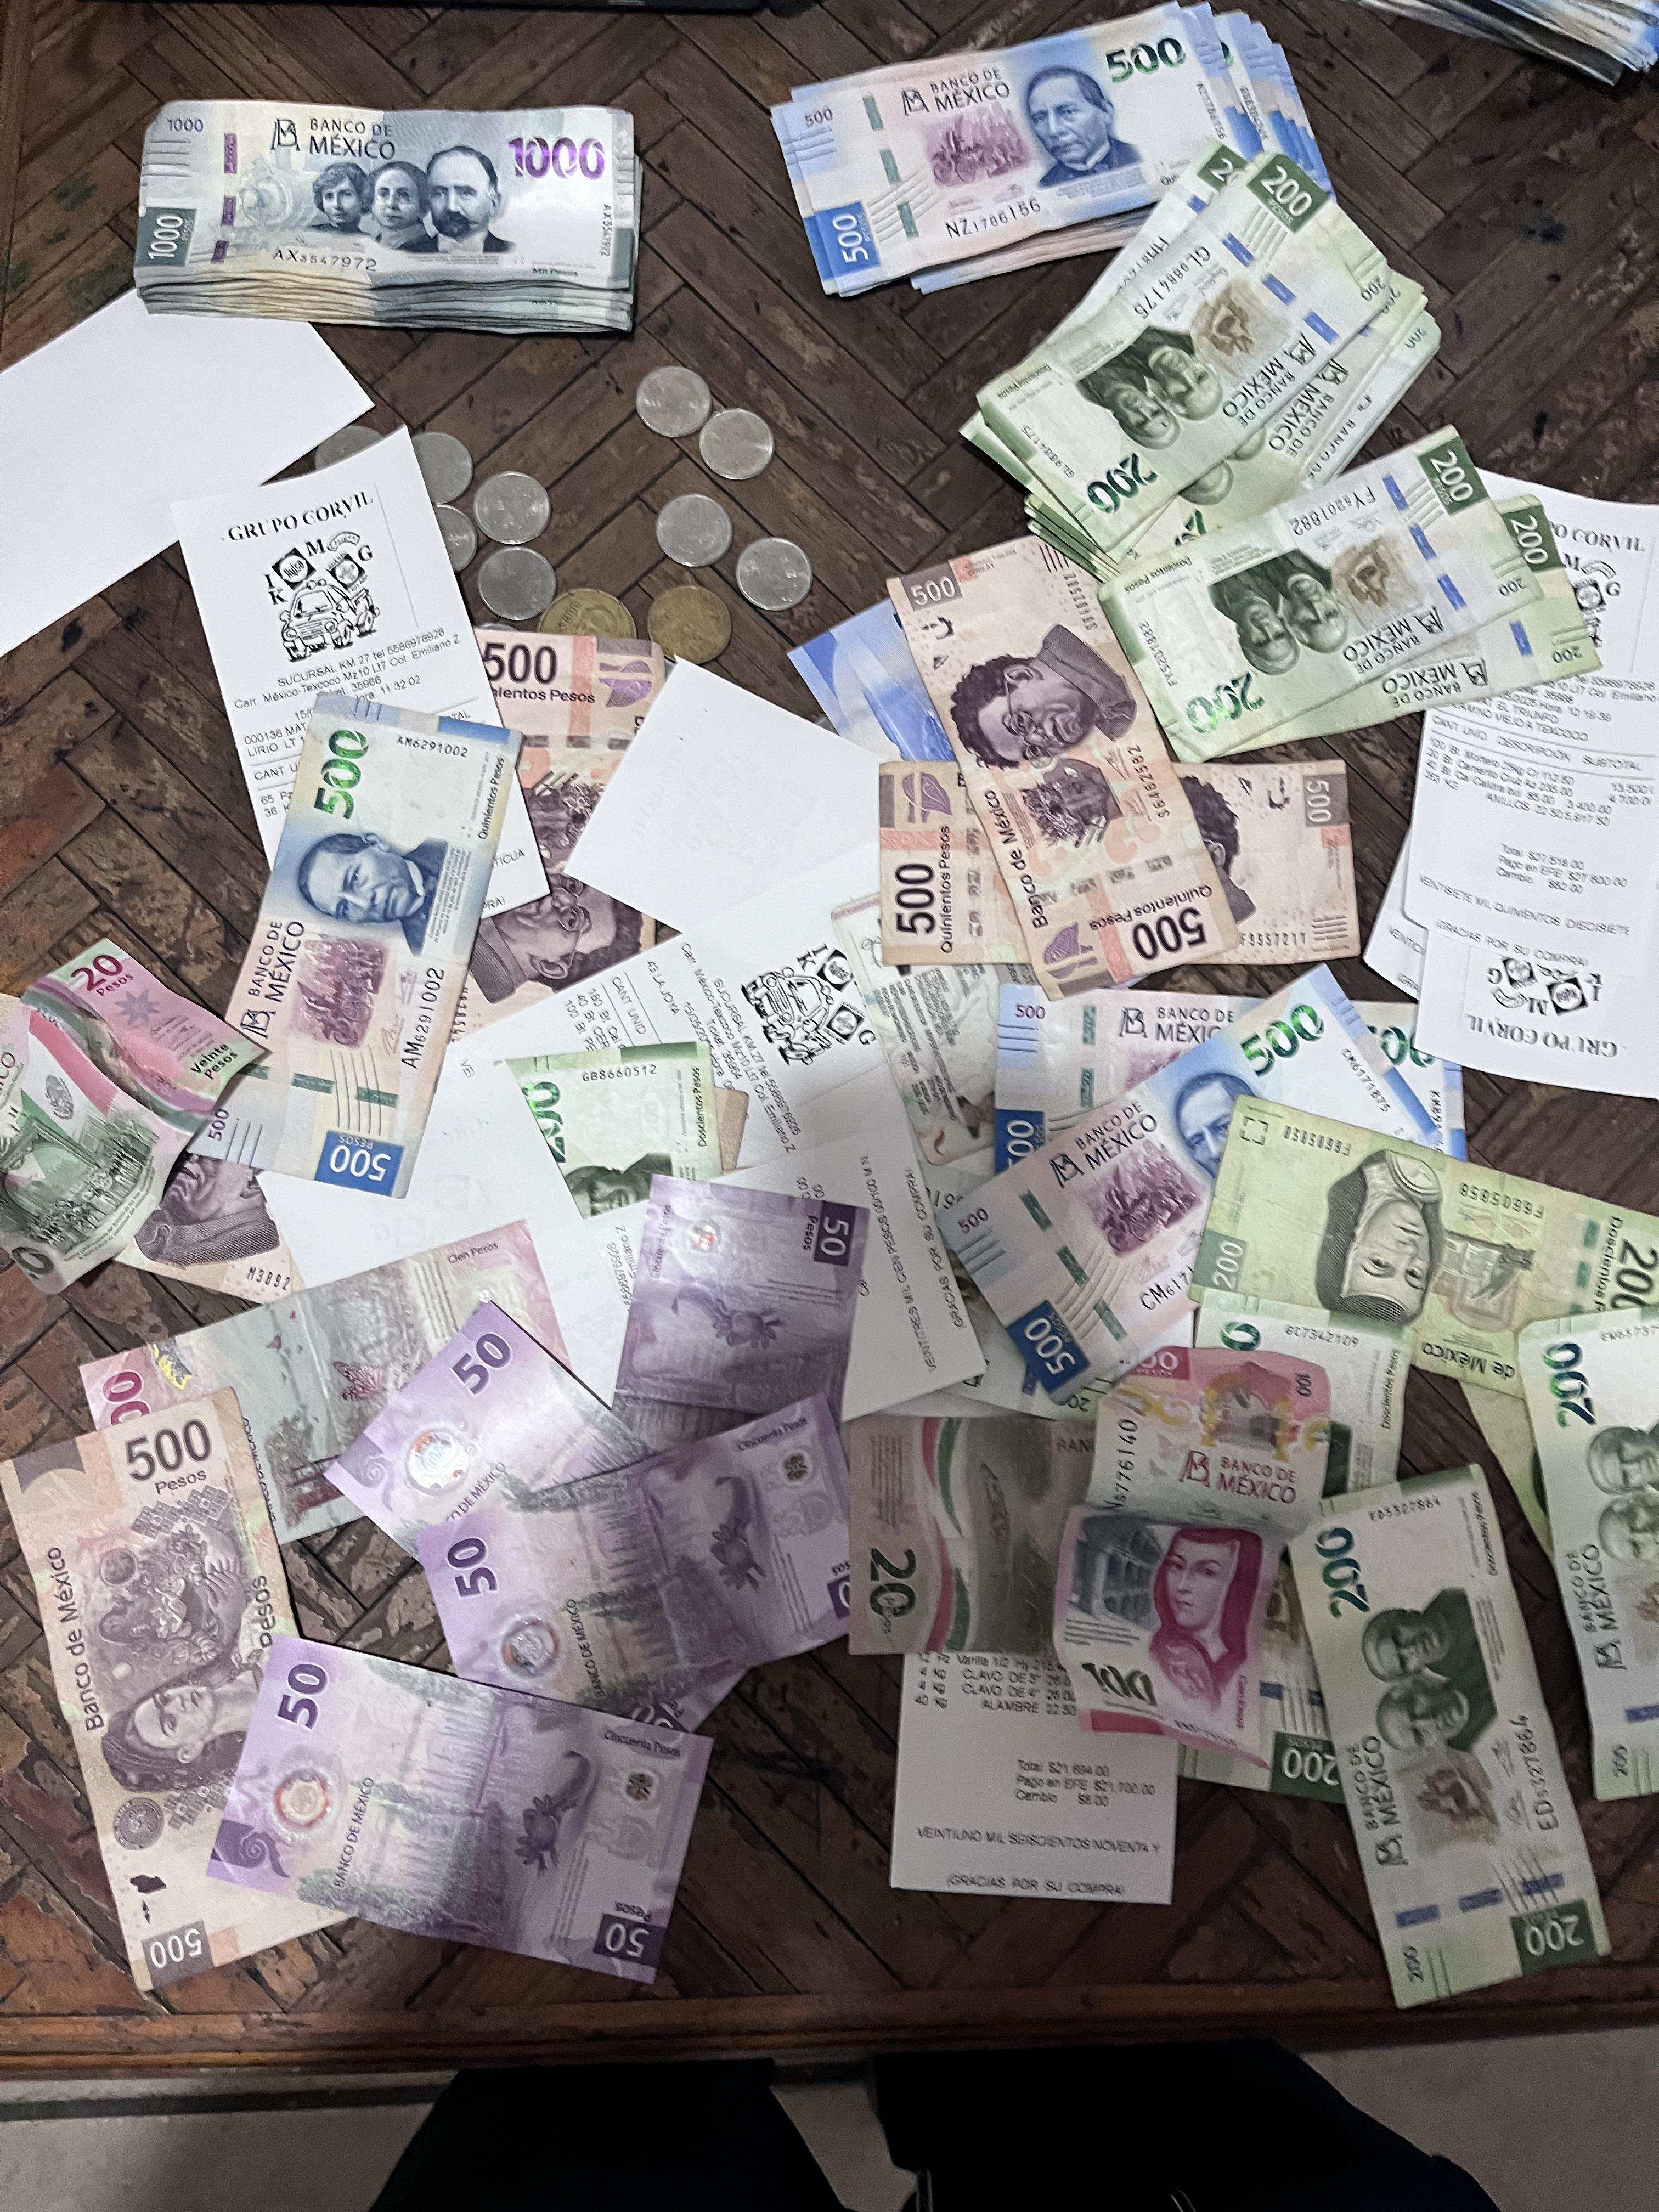100: (80, 1226, 592, 1559), (1051, 1341, 1337, 1771)
1000: (127, 98, 648, 352)
20: (0, 939, 272, 1299), (819, 1399, 1105, 1656)
200: (960, 145, 1406, 564), (1279, 1461, 1617, 2008), (1093, 415, 1603, 766), (1185, 1083, 1659, 1414), (1188, 1287, 1406, 1817), (1506, 1303, 1659, 1806), (481, 1033, 734, 1235)
50: (204, 1627, 718, 2003), (415, 1393, 861, 1747), (317, 1301, 667, 1601), (599, 1174, 871, 1468)
500: (0, 1397, 404, 2006), (882, 531, 1243, 996), (870, 751, 1366, 974), (425, 625, 667, 1040), (85, 1136, 326, 1313)
500 nuevo: (925, 958, 1445, 1406), (181, 685, 526, 1200), (763, 0, 1331, 307), (971, 981, 1473, 1183)
